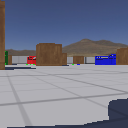blue_basket: (95, 53, 116, 65)
blue_cube: (76, 62, 80, 65)
green_basket: (4, 51, 8, 65)
green_cube: (71, 63, 74, 65), (29, 63, 32, 65), (25, 63, 28, 65), (32, 64, 34, 65)
obstacle: (36, 41, 61, 67), (1, 1, 5, 70), (116, 47, 128, 64), (72, 55, 84, 64), (60, 52, 67, 66), (8, 55, 12, 64)
red_basket: (27, 56, 36, 65)
